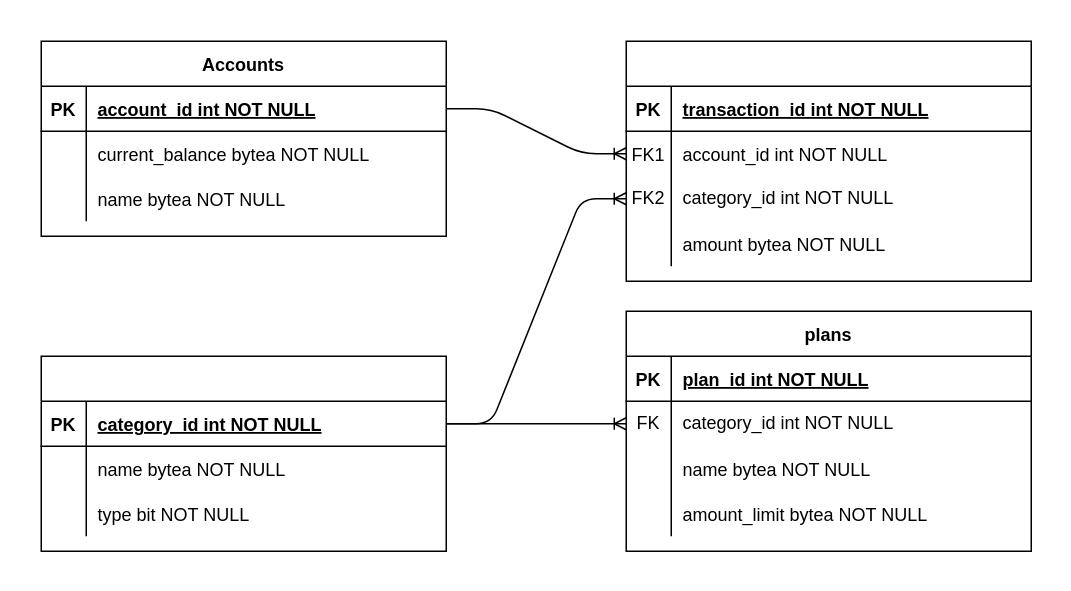
Image size: 1071x591. Some labels were removed from this diagram. Each missing label, with the box of its shape:
Categories: (40, 355, 446, 551)
Transactions: (625, 40, 1031, 281)
